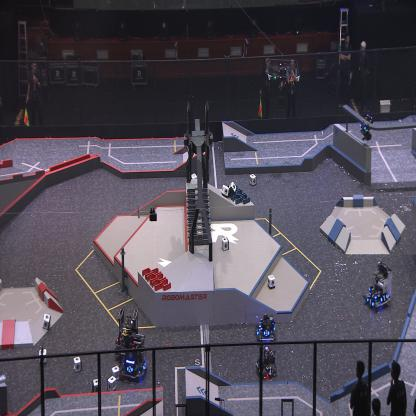car: (362, 260, 394, 311), (118, 330, 148, 380), (114, 305, 140, 361), (255, 344, 277, 380), (255, 311, 276, 342)
